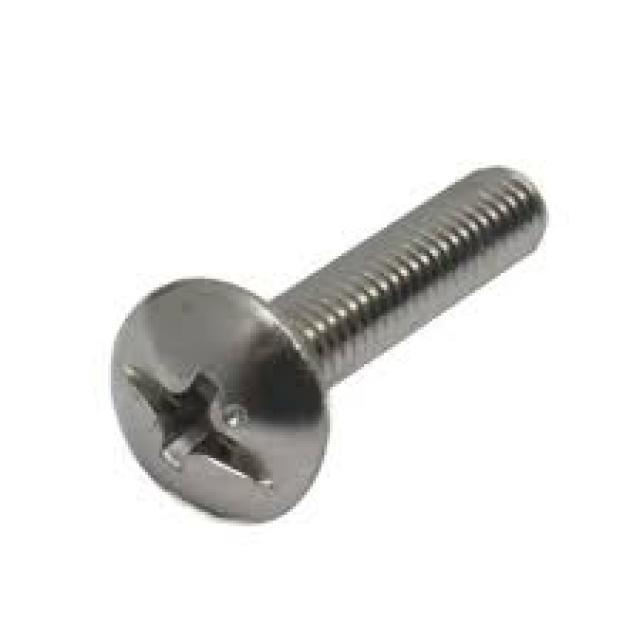Screw: (108, 165, 549, 523)
